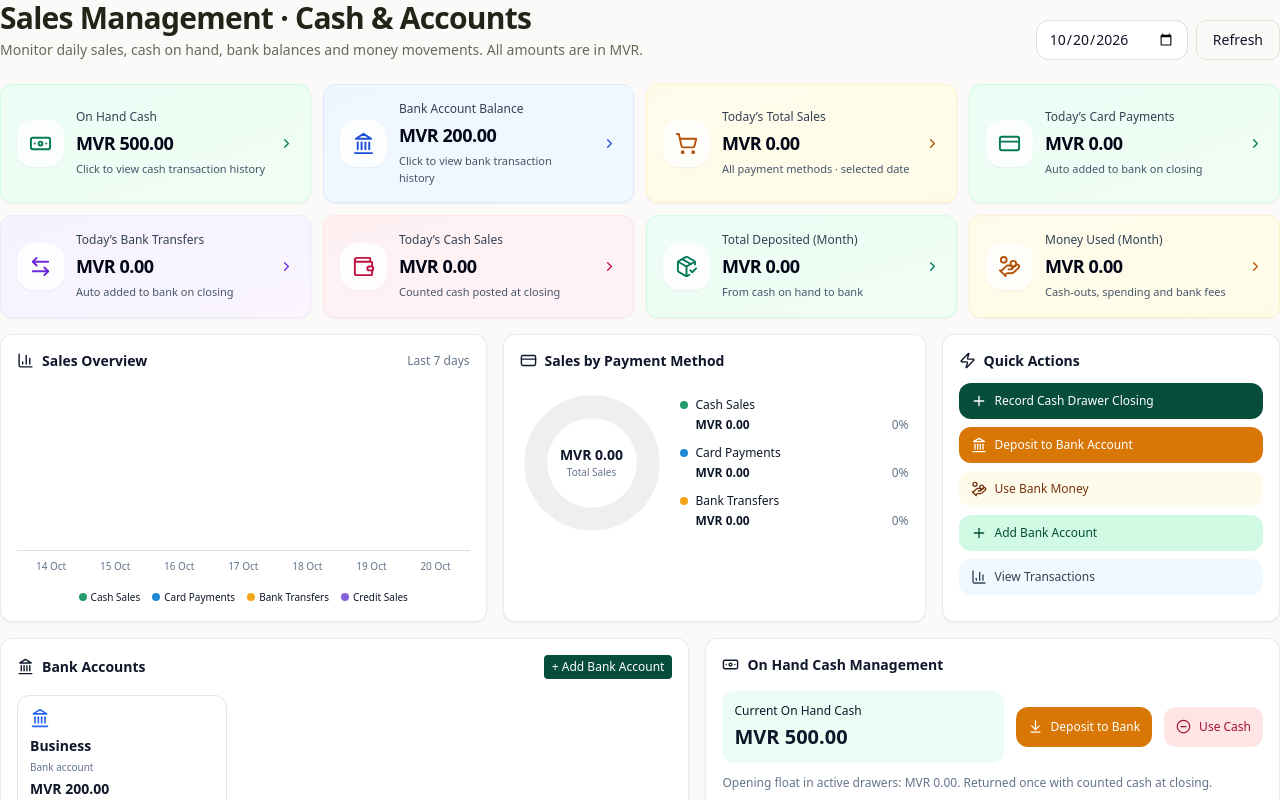
Test: Sales Finance › opens details for {}
Click the button "Today’s Total Sales" at (802, 144), box [646,84,957,203]
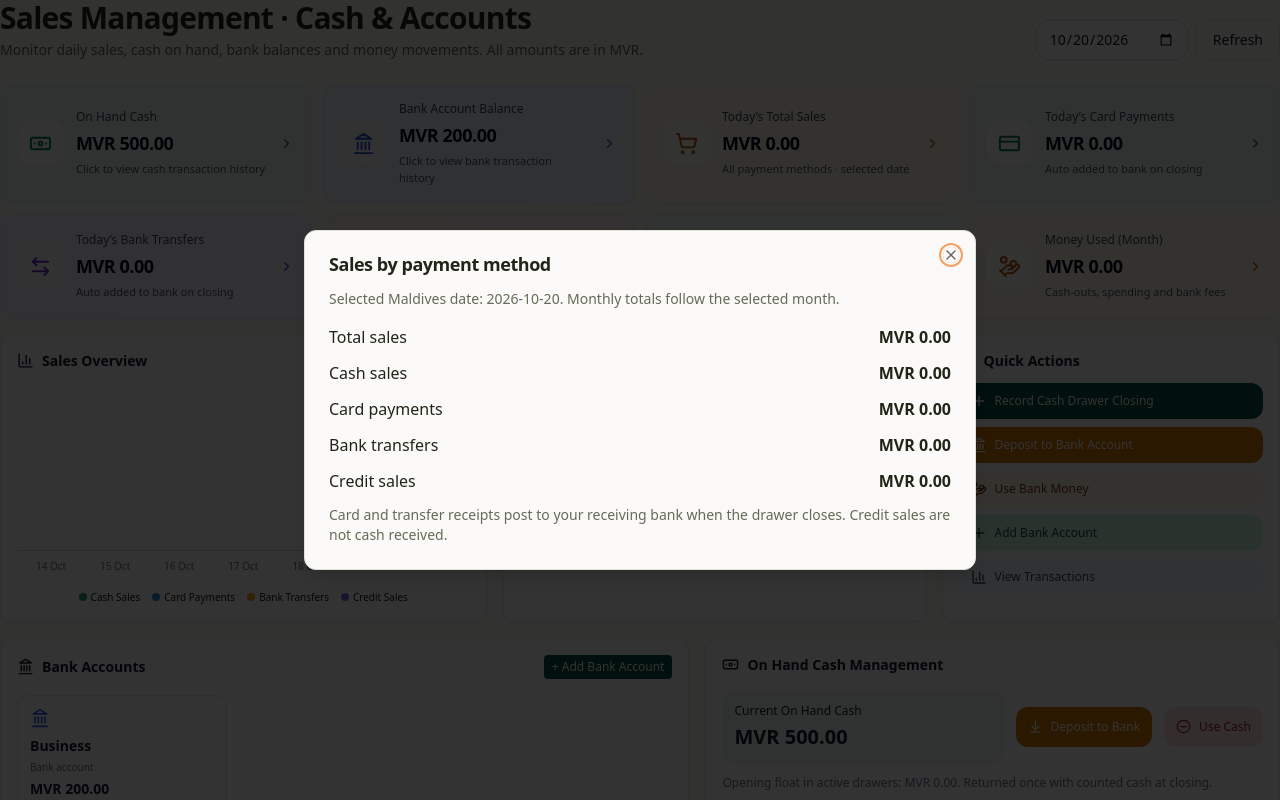
Now the dialog is shown, box [304,230,976,570]
